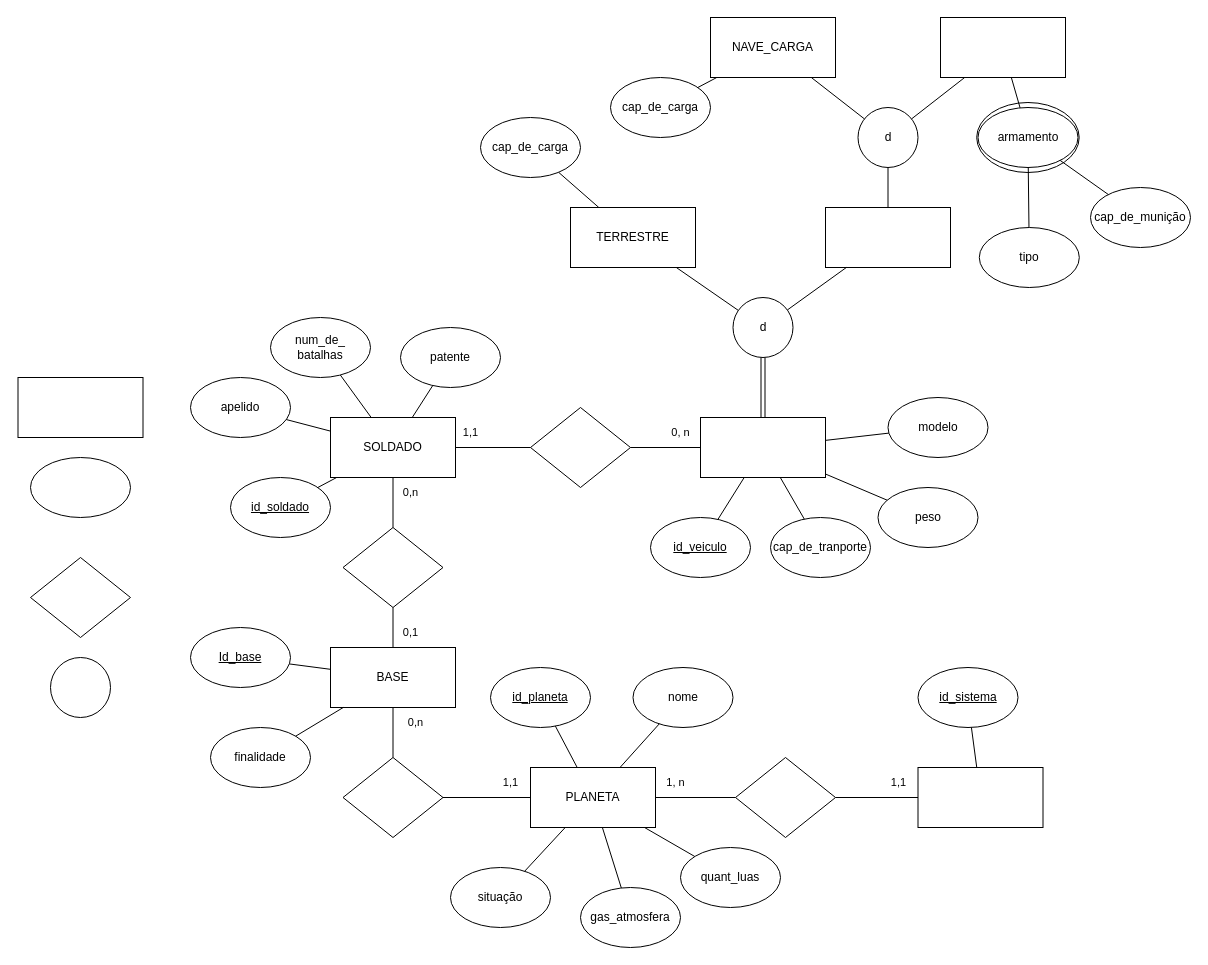
Some shapes in this 1208 by 965 pixel diagram are drawn without their labels. Each missing label, with the box of its shape:
AEREO: (824, 206, 950, 268)
esta_em: (342, 526, 443, 608)
localiza: (342, 756, 443, 838)
NAVE_BATALHA: (940, 16, 1066, 78)
pertence: (734, 756, 836, 838)
responsavel: (530, 406, 630, 488)
SISTEMA_SOLAR: (917, 766, 1043, 828)
VEICULO: (700, 416, 826, 478)
